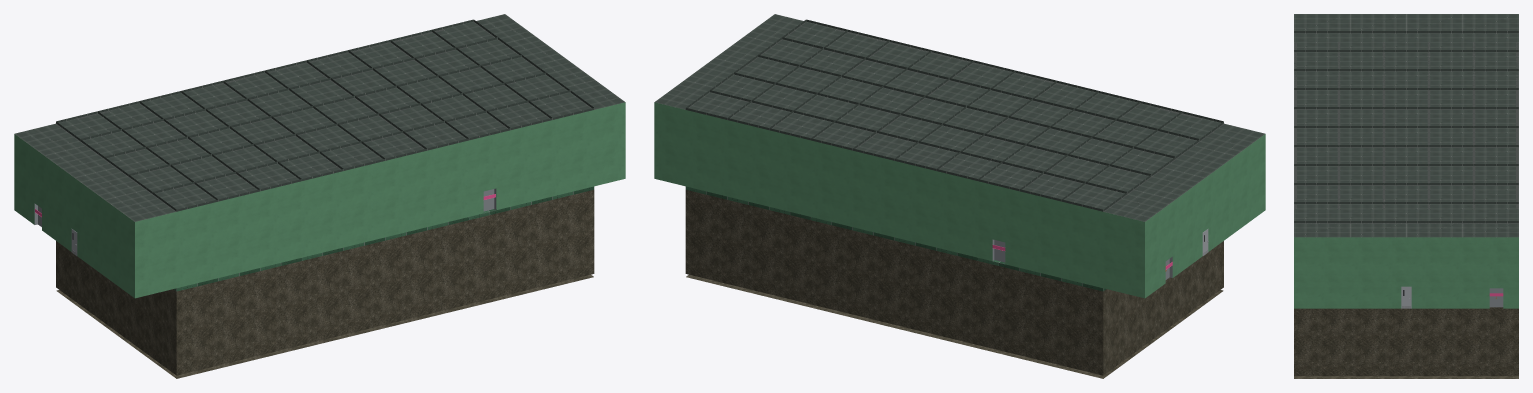
File: registrar_hall.glb
3 renders of one model, left to right at view 1: azimuth 30°, elevation 25°; view 2: azimuth 150°, elevation 25°; view 3: azimuth 270°, elevation 25°, orthographic. The views are drawn at different scales.
Parts seen in each view (by area): view 1: Wall_Green, Pit_Concrete, Ceiling_Server, Beam_Steel, CeilingPanel_00_00, CeilingPanel_01_00, CeilingPanel_04_00, CeilingPanel_02_00, CeilingPanel_09_00, CeilingPanel_06_00, CeilingPanel_07_00, CeilingPanel_05_00 (+42 smaller); view 2: Wall_Green, Pit_Concrete, Ceiling_Server, Beam_Steel, CeilingPanel_00_00, CeilingPanel_04_00, CeilingPanel_08_00, CeilingPanel_03_00, CeilingPanel_02_00, CeilingPanel_01_00, CeilingPanel_05_00, CeilingPanel_06_00 (+42 smaller); view 3: Pit_Concrete, Wall_Green, Ceiling_Server, Beam_Steel, CeilingPanel_00_01, CeilingPanel_00_00, CeilingPanel_00_03, CeilingPanel_00_02, CeilingPanel_00_04, CeilingPanel_09_02, CeilingPanel_02_01, CeilingPanel_02_03 (+44 smaller).
Boxes of the visible parts, x1,y1,x2,y2 form: Wall_Green: (14, 102, 625, 298); Pit_Concrete: (56, 190, 594, 378); Ceiling_Server: (14, 14, 625, 221); Beam_Steel: (55, 21, 591, 211); CeilingPanel_00_00: (56, 111, 121, 140); CeilingPanel_01_00: (98, 101, 163, 130); CeilingPanel_04_00: (223, 70, 288, 99); CeilingPanel_02_00: (140, 91, 205, 119); CeilingPanel_09_00: (432, 19, 497, 48); CeilingPanel_06_00: (307, 50, 372, 78); CeilingPanel_07_00: (348, 40, 414, 68); CeilingPanel_05_00: (265, 60, 330, 89); Wall_Green: (654, 102, 1265, 298); Pit_Concrete: (685, 190, 1223, 378); Ceiling_Server: (654, 14, 1265, 221); Beam_Steel: (688, 21, 1224, 211); CeilingPanel_00_00: (1061, 182, 1127, 211); CeilingPanel_04_00: (894, 141, 960, 170); CeilingPanel_08_00: (727, 100, 793, 129); CeilingPanel_03_00: (936, 151, 1001, 180); CeilingPanel_02_00: (978, 161, 1043, 191); CeilingPanel_01_00: (1019, 171, 1085, 201); CeilingPanel_05_00: (852, 131, 918, 160); CeilingPanel_06_00: (811, 120, 876, 150); Pit_Concrete: (1294, 307, 1518, 378); Wall_Green: (1294, 237, 1518, 308); Ceiling_Server: (1294, 14, 1518, 237); Beam_Steel: (1294, 33, 1518, 223); CeilingPanel_00_01: (1429, 31, 1473, 51); CeilingPanel_00_00: (1474, 31, 1518, 51); CeilingPanel_00_03: (1339, 31, 1383, 51); CeilingPanel_00_02: (1384, 31, 1428, 51); CeilingPanel_00_04: (1294, 31, 1338, 51); CeilingPanel_09_02: (1384, 202, 1428, 222); CeilingPanel_02_01: (1429, 69, 1473, 89); CeilingPanel_02_03: (1339, 69, 1383, 89).
Size of the model in its own units: 47.15 by 15.5 by 20.
Materials: 29 (12 with a texture image).
